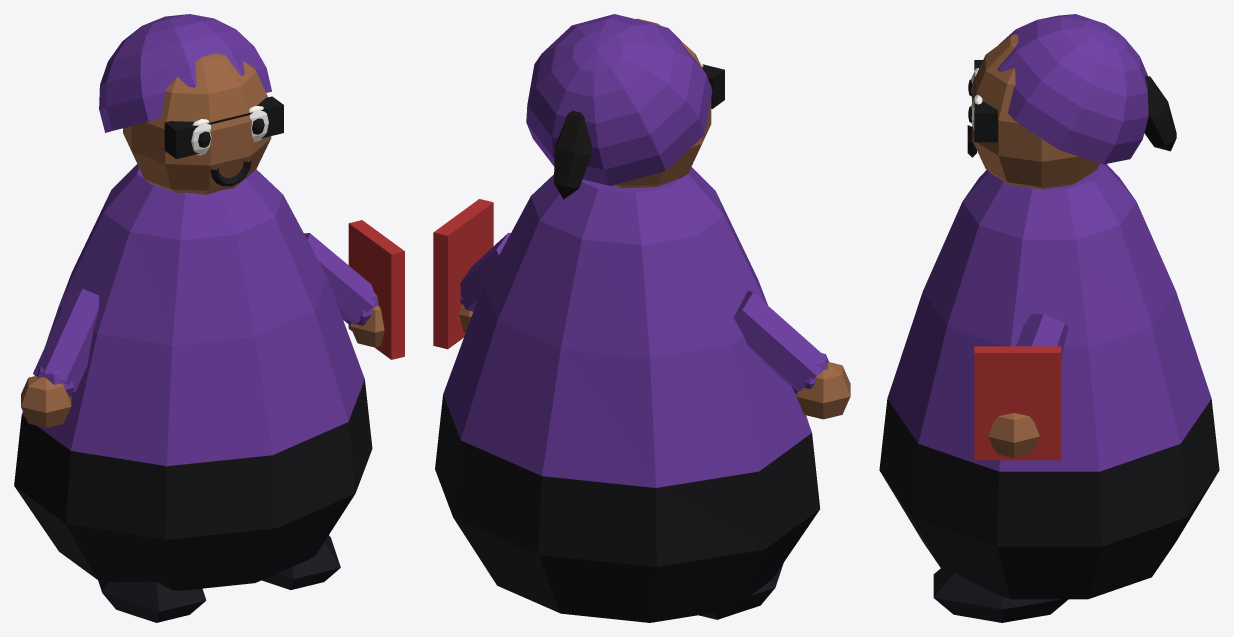
Rendered from npc_alumna.glb.
3 renders of one model, left to right at view 1: azimuth 30°, elevation 25°; view 2: azimuth 150°, elevation 25°; view 3: azimuth 270°, elevation 25°, orthographic. The views are drawn at different scales.
Visible parts, largest first — view 1: body_hoodie_purple, body_thief_black, head_skin_cacao, cap_hoodie_purple, arms_hoodie_purple, legs_black, props_notebook_red, arms_skin_cacao, face_thief_black, face_white, face_black; view 2: body_hoodie_purple, body_thief_black, cap_hoodie_purple, arms_hoodie_purple, props_notebook_red, cap_hair_black, arms_skin_cacao, head_skin_cacao, legs_black, face_thief_black; view 3: body_hoodie_purple, body_thief_black, cap_hoodie_purple, props_notebook_red, head_skin_cacao, legs_black, arms_skin_cacao, cap_hair_black, arms_hoodie_purple, face_thief_black.
Boxes of the visible parts, x1,y1,x2,y2 form: body_hoodie_purple: (21, 164, 364, 466); body_thief_black: (14, 379, 372, 590); head_skin_cacao: (123, 53, 271, 194); cap_hoodie_purple: (99, 14, 271, 132); arms_hoodie_purple: (33, 233, 378, 396); legs_black: (98, 535, 340, 622); props_notebook_red: (348, 220, 404, 359); arms_skin_cacao: (21, 306, 384, 427); face_thief_black: (164, 96, 283, 158); face_white: (191, 106, 268, 155); face_black: (198, 118, 264, 186); body_hoodie_purple: (443, 167, 811, 487); body_thief_black: (435, 394, 820, 622); cap_hoodie_purple: (526, 14, 712, 185); arms_hoodie_purple: (460, 232, 828, 393); props_notebook_red: (433, 199, 493, 349); cap_hair_black: (553, 110, 591, 199); arms_skin_cacao: (459, 304, 850, 419); head_skin_cacao: (611, 18, 711, 187); legs_black: (699, 563, 783, 619); face_thief_black: (702, 64, 724, 108); body_hoodie_purple: (887, 163, 1211, 471); body_thief_black: (879, 399, 1219, 599); cap_hoodie_purple: (997, 14, 1148, 164); props_notebook_red: (974, 346, 1061, 460); head_skin_cacao: (972, 33, 1099, 189); legs_black: (933, 568, 1068, 622); arms_skin_cacao: (988, 413, 1039, 457); cap_hair_black: (1144, 75, 1176, 151); arms_hoodie_purple: (1016, 314, 1067, 358); face_thief_black: (974, 60, 997, 142).
Bounding box in the file's own units: 1.13 × 1.56 × 0.86.
